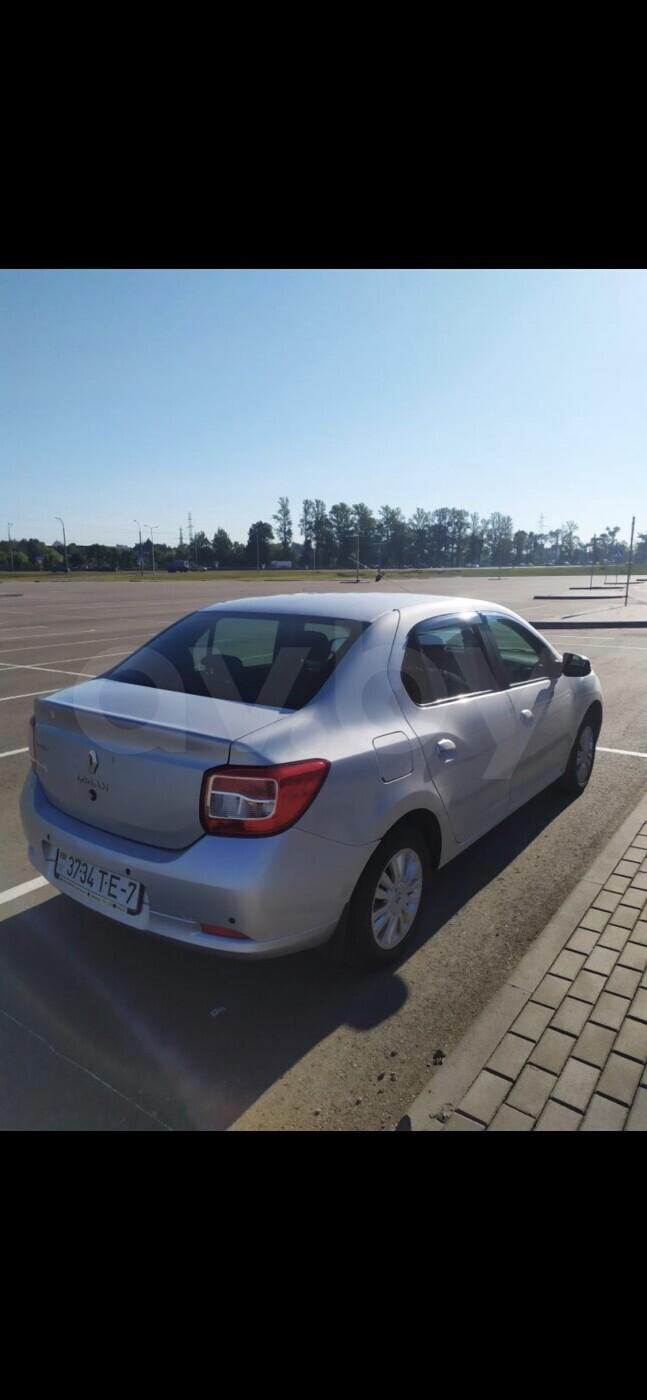Logan_2013-2018: (18, 586, 610, 978)
